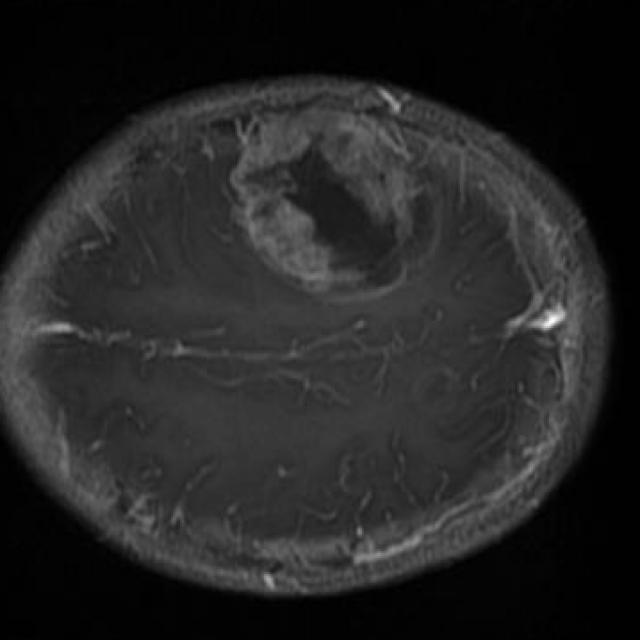glioma: (228, 111, 435, 296)
